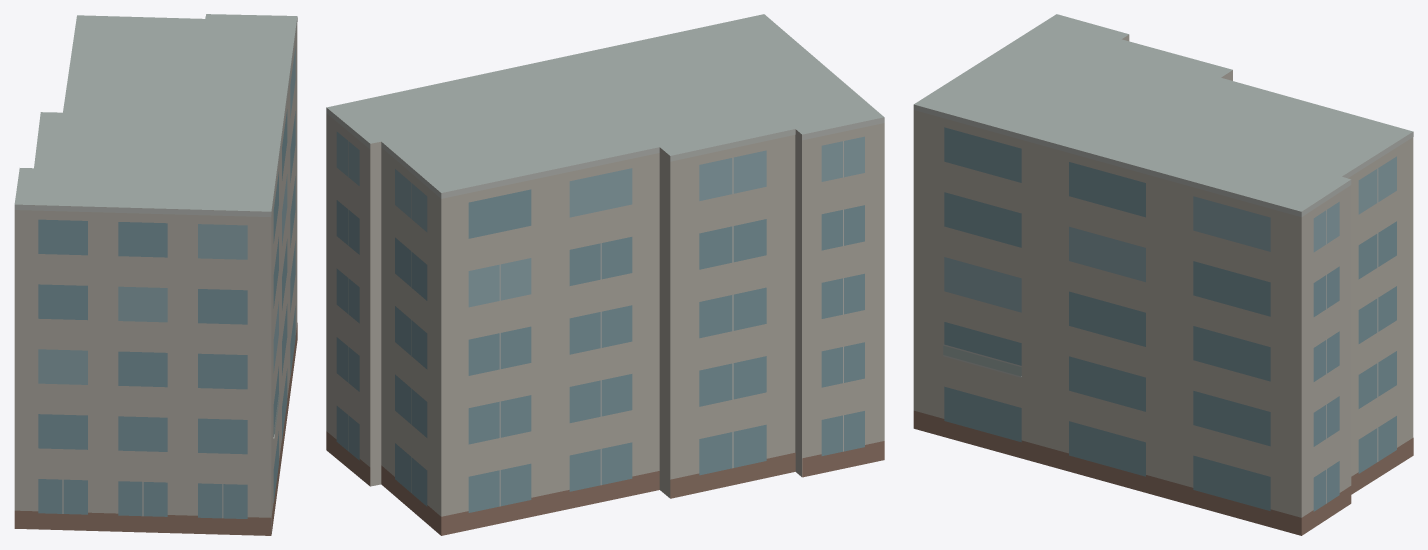
Rendered from survey-upis-32945123.glb.
3 views of the same model, side by side, from view 1: azimuth 30°, elevation 25°; view 2: azimuth 150°, elevation 25°; view 3: azimuth 270°, elevation 25° (orthographic). The views are drawn at different scales.
Parts seen in each view (by area): view 1: survey-upis-32945123.tmp; view 2: survey-upis-32945123.tmp; view 3: survey-upis-32945123.tmp.
Part boxes in pixels (x1,y1,x2,y2): survey-upis-32945123.tmp: (14,14,297,535); survey-upis-32945123.tmp: (326,14,884,535); survey-upis-32945123.tmp: (913,14,1413,535).
Bounding box in the file's own units: 18.98 × 14.5 × 20.27.
